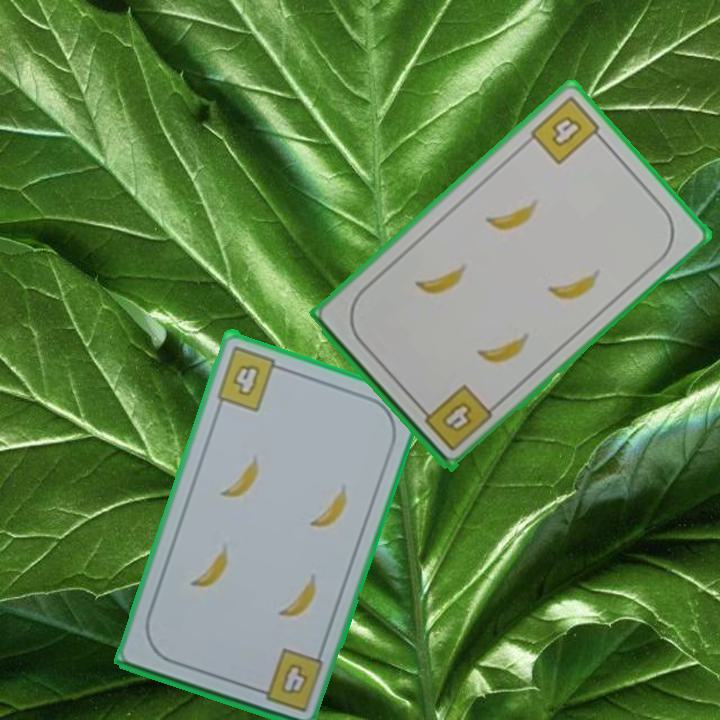4b: (526, 92, 608, 168), (415, 380, 495, 454), (212, 341, 289, 413), (250, 645, 326, 715)
